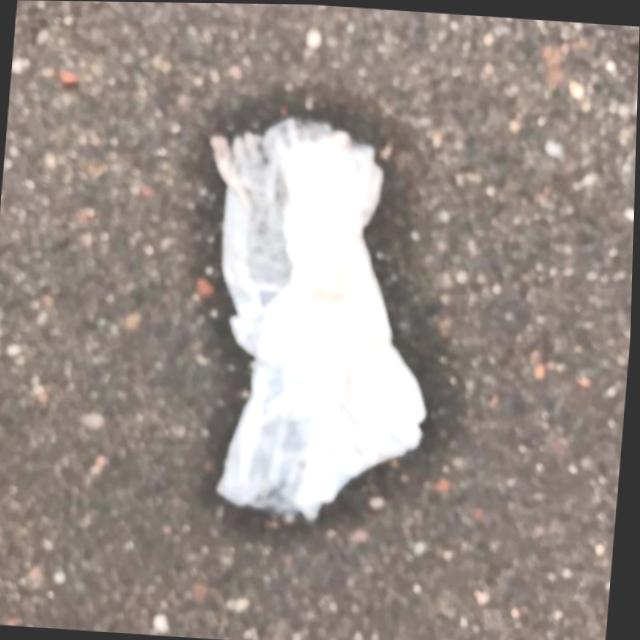Paper: (180, 105, 454, 532)
